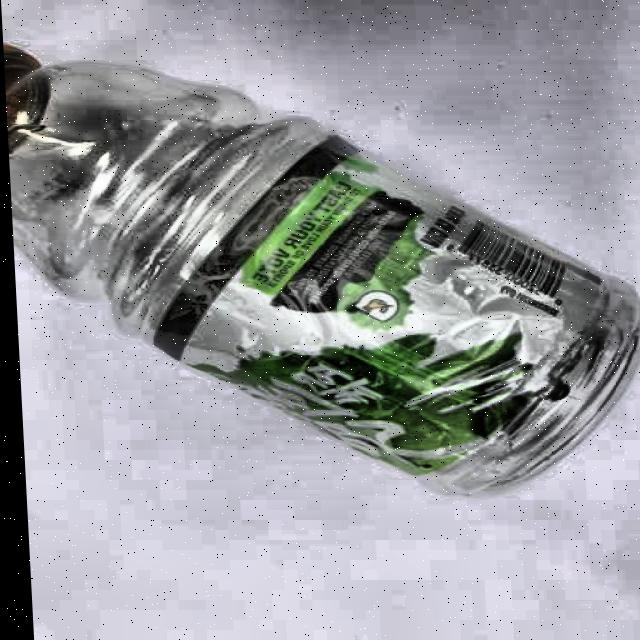plastic: (2, 41, 640, 499)
